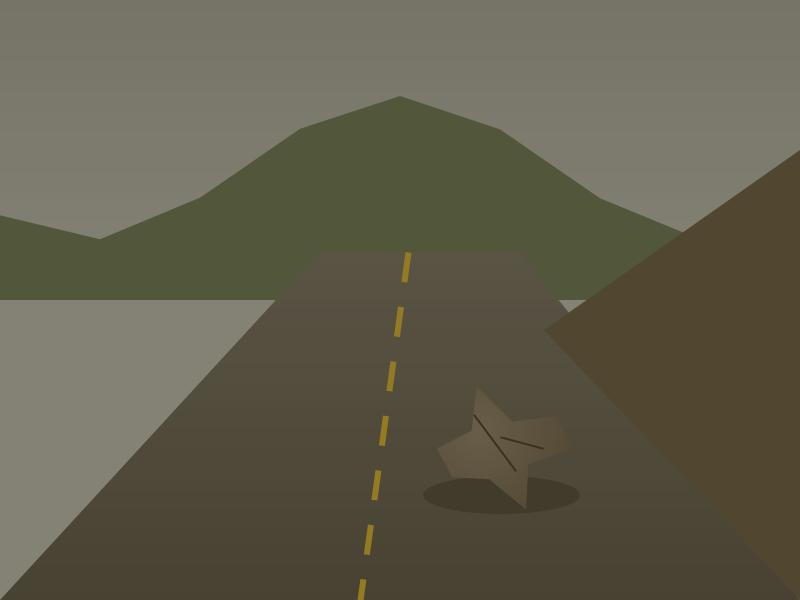ROAD_OBSTACLE: (433, 393, 570, 504)
